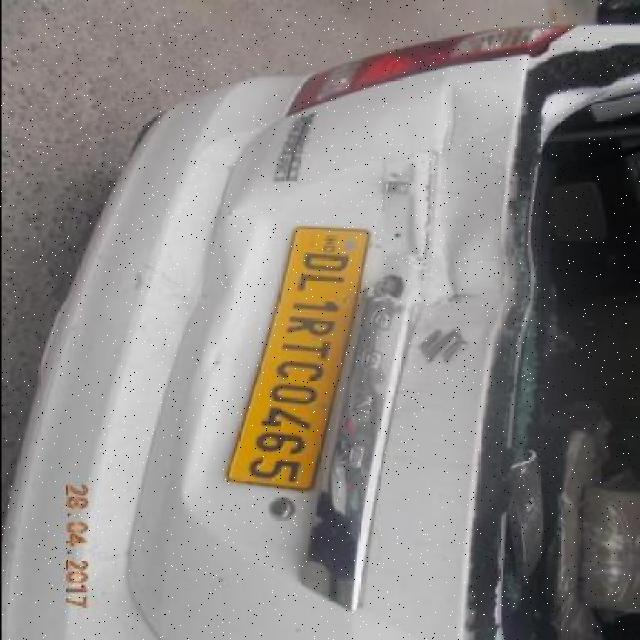damage: (474, 54, 639, 638), (368, 156, 470, 340), (180, 210, 263, 339), (436, 82, 457, 165)
